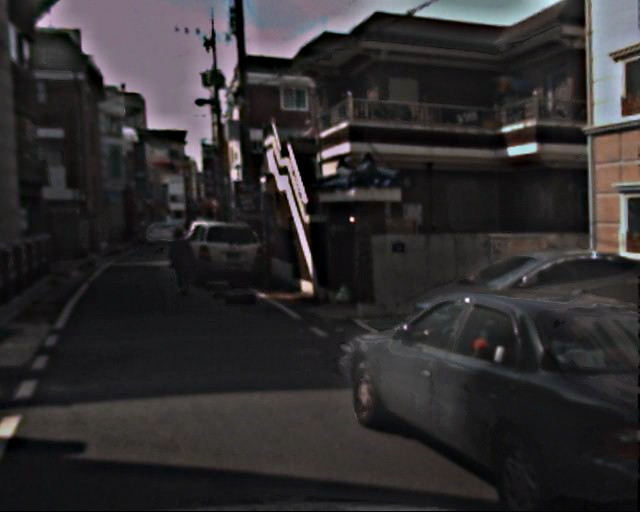person: (164, 226, 193, 297)
